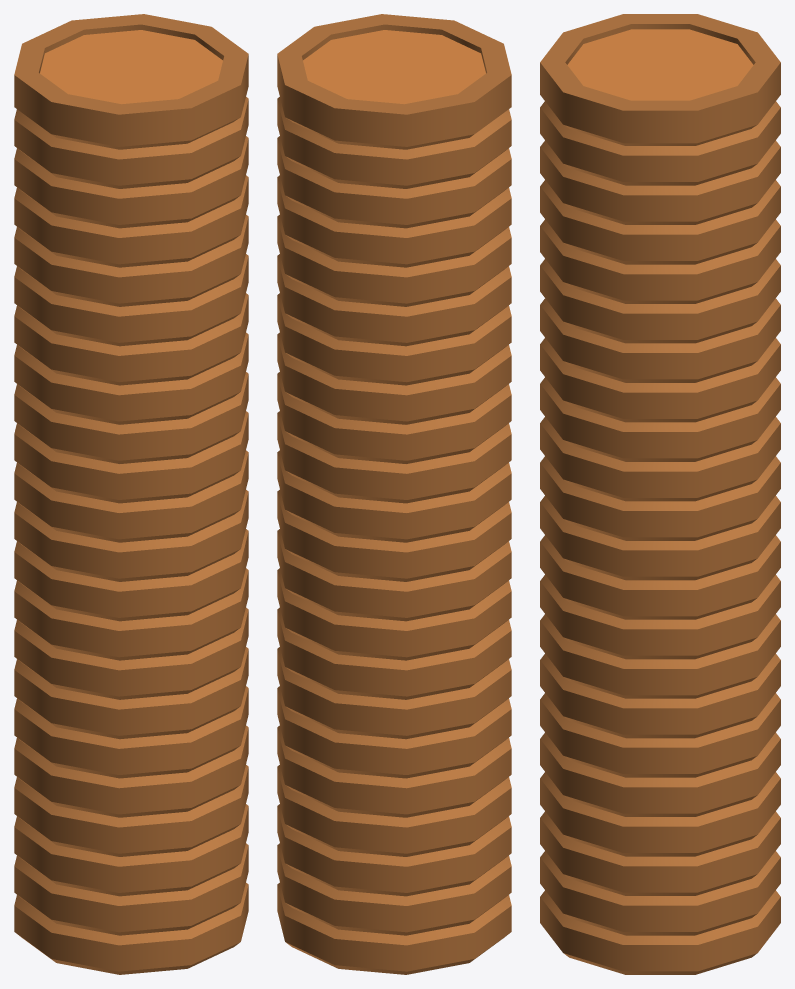
File: Coin_Tower_09.fbx
3 views of the same model, side by side, from view 1: azimuth 30°, elevation 25°; view 2: azimuth 150°, elevation 25°; view 3: azimuth 270°, elevation 25° (orthographic).
Visible parts, largest first — view 1: Coin_Tower_09; view 2: Coin_Tower_09; view 3: Coin_Tower_09.
Part boxes in pixels (x1=…): Coin_Tower_09: x1=14, y1=14, x2=248, y2=974; Coin_Tower_09: x1=277, y1=14, x2=511, y2=974; Coin_Tower_09: x1=540, y1=14, x2=780, y2=974.
Bounding box in the file's own units: 0.0413 × 0.1728 × 0.0435.
